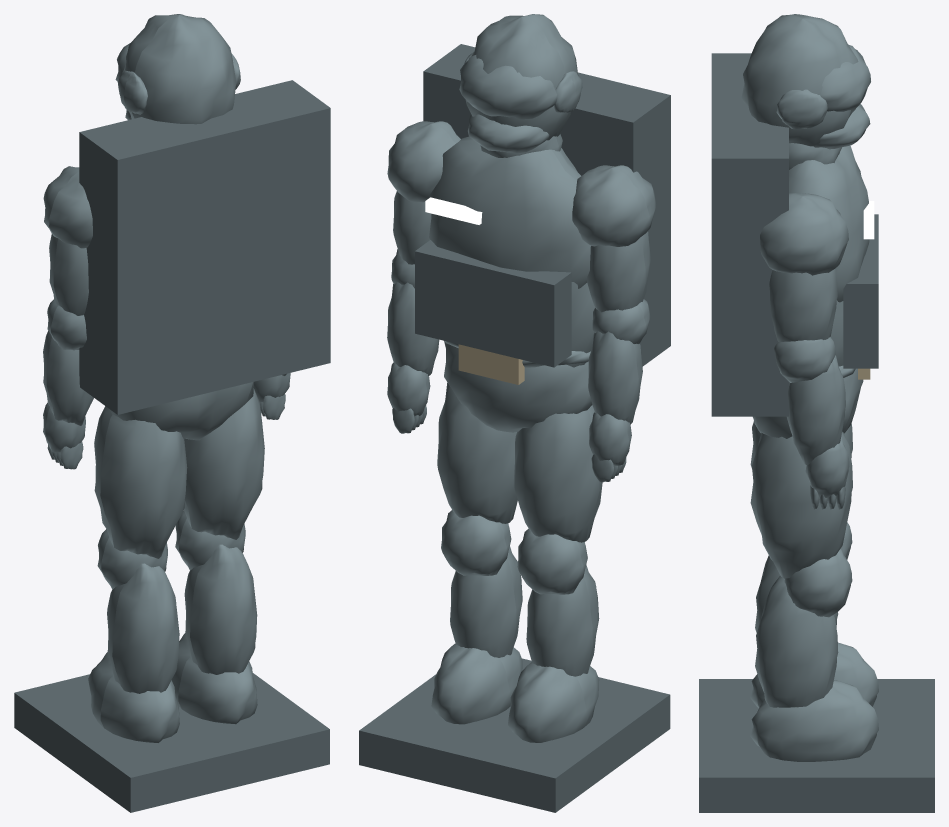
Rendered from operator.glb.
3 renders of one model, left to right at view 1: azimuth 30°, elevation 25°; view 2: azimuth 150°, elevation 25°; view 3: azimuth 270°, elevation 25°, orthographic. The views are drawn at different scales.
Visible parts, largest first — view 1: block_torso_2, block_sole_-1, oval_leg_-1_0, oval_torso_5, oval_leg_1_0, block_sole_1, oval_leg_1_2, oval_leg_-1_2, oval_leg_-1_3, oval_leg_1_3, oval_torso_2, oval_arm_-1_0 (+8 smaller); view 2: oval_torso_1, block_torso_2, block_sole_-1, oval_leg_-1_0, oval_leg_1_0, block_sole_1, block_torso_5, oval_torso_2, oval_torso_5, block_torso_7, oval_arm_-1_0, oval_leg_-1_3 (+21 smaller); view 3: block_torso_2, block_sole_1, oval_leg_1_0, oval_torso_5, oval_leg_1_2, oval_leg_1_3, block_sole_-1, oval_arm_1_0, oval_torso_1, oval_arm_1_1, oval_arm_1_3, block_torso_7 (+11 smaller).
Boxes of the visible parts, x1,y1,x2,y2 form: block_torso_2: (79, 80, 330, 414); block_sole_-1: (14, 674, 252, 812); oval_leg_-1_0: (94, 406, 187, 558); oval_torso_5: (125, 14, 235, 124); oval_leg_1_0: (184, 388, 264, 539); block_sole_1: (175, 673, 329, 783); oval_leg_1_2: (184, 544, 257, 674); oval_leg_-1_2: (107, 563, 179, 693); oval_leg_-1_3: (88, 652, 179, 742); oval_leg_1_3: (171, 633, 257, 724); oval_torso_2: (108, 382, 253, 440); oval_arm_-1_0: (43, 166, 92, 248); oval_torso_1: (429, 136, 590, 288); block_torso_2: (423, 44, 670, 366); block_sole_-1: (435, 677, 670, 812); oval_leg_-1_0: (513, 405, 602, 542); oval_leg_1_0: (437, 382, 517, 523); block_sole_1: (359, 658, 531, 794); block_torso_5: (489, 266, 571, 367); oval_torso_2: (444, 341, 592, 432); oval_torso_5: (465, 14, 578, 140); block_torso_7: (415, 240, 479, 348); oval_arm_-1_0: (572, 165, 656, 246); oval_leg_-1_3: (508, 662, 599, 742); block_torso_2: (711, 53, 788, 416); block_sole_1: (699, 739, 934, 812); oval_leg_1_0: (750, 431, 852, 578); oval_torso_5: (741, 14, 858, 146); oval_leg_1_2: (755, 575, 838, 707); oval_leg_1_3: (750, 680, 878, 761); block_sole_-1: (699, 679, 934, 739); oval_arm_1_0: (760, 192, 848, 275); oval_torso_1: (789, 145, 869, 302); oval_arm_1_1: (769, 269, 837, 341); oval_arm_1_3: (787, 355, 845, 464); block_torso_7: (843, 251, 878, 368).
Size of the model in its own units: 0.6848 by 1.85 by 0.53.
